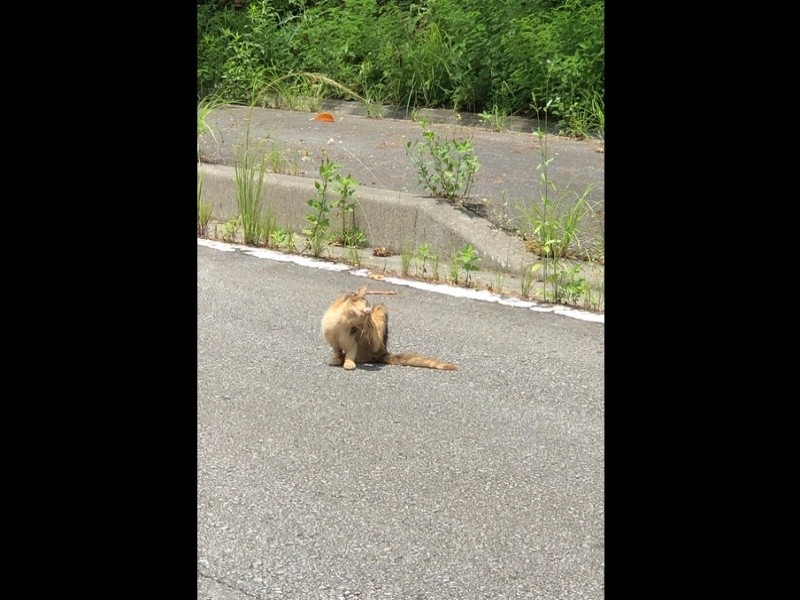cat: (318, 285, 463, 373)
